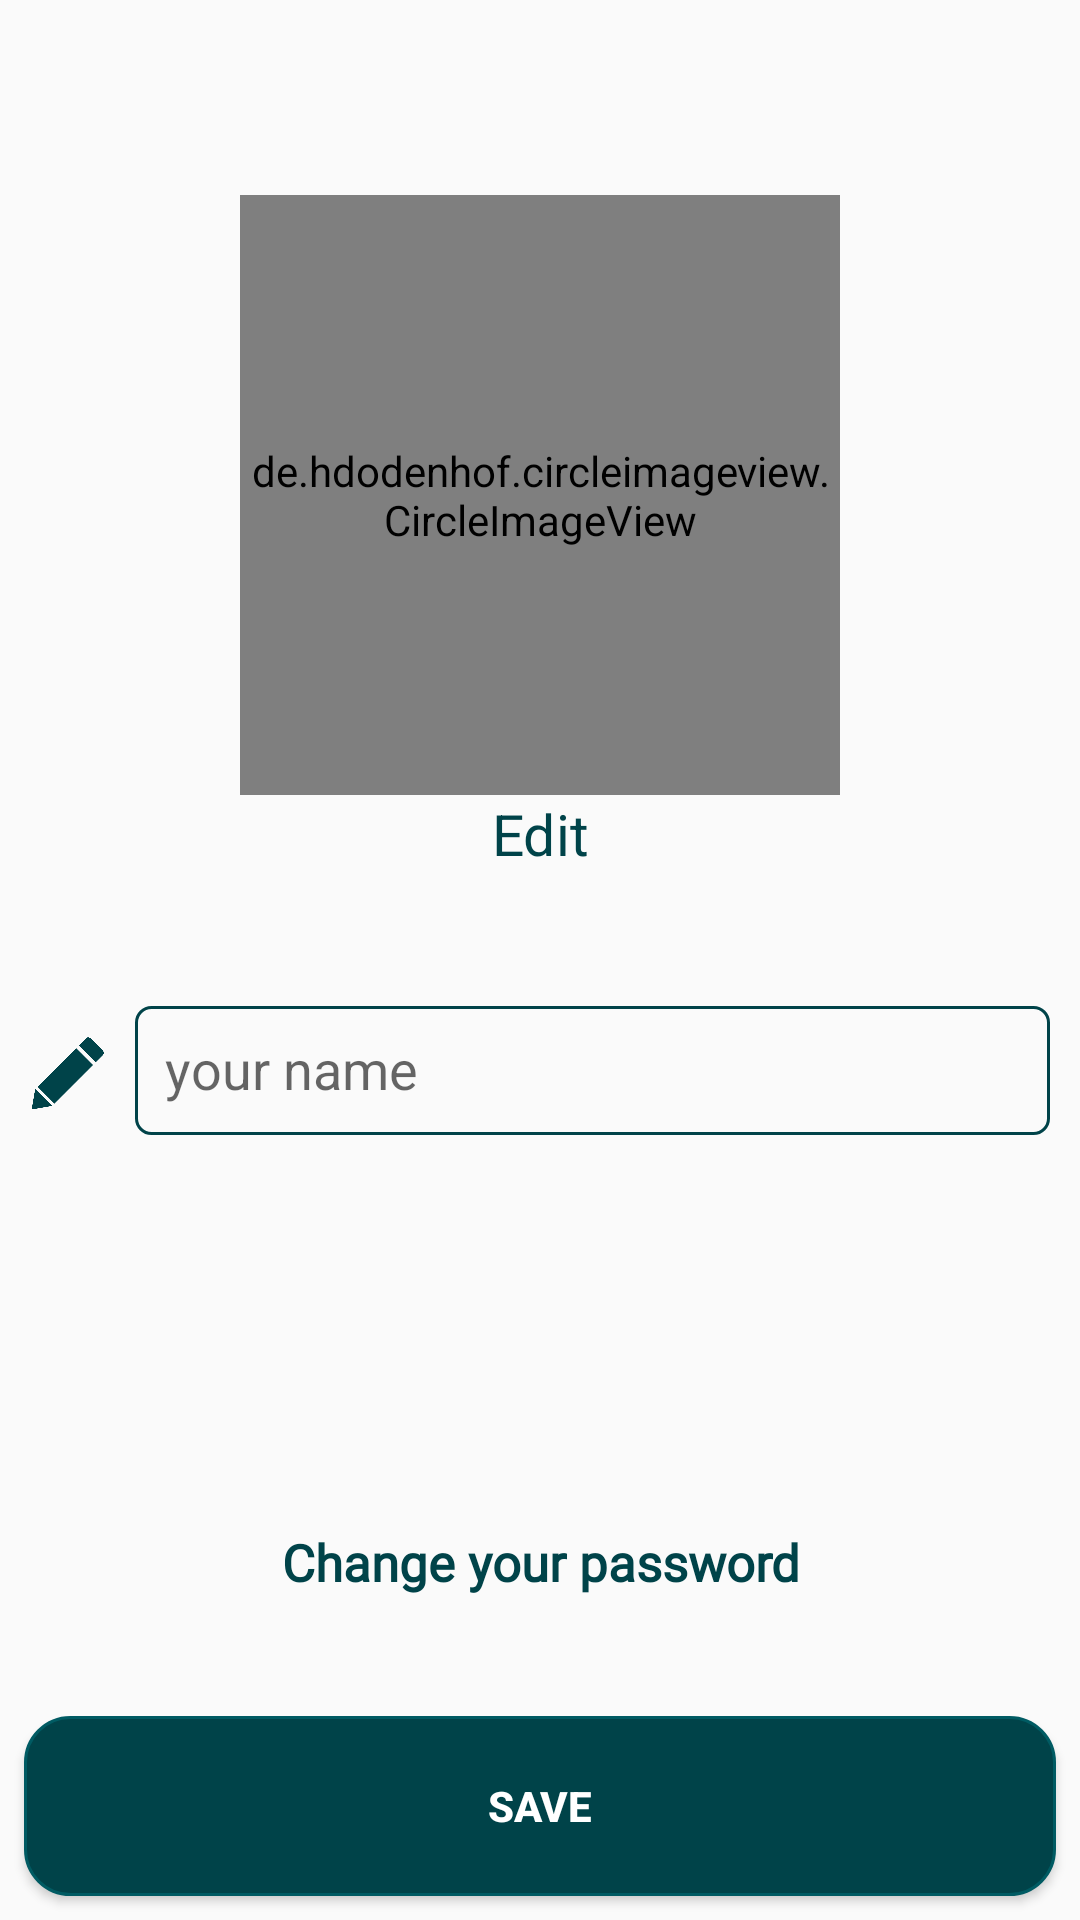

Icon click points for this 1080x1920 phone screenshot, format point (x, y):
editicon: point (68, 1073)
